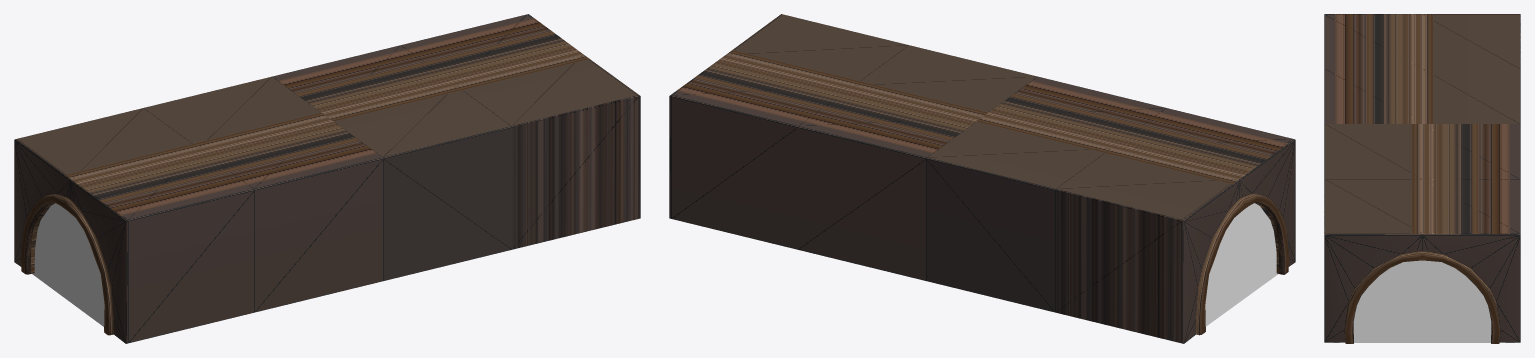
File: ground_un_area12_tunnel.gltf
3 renders of one model, left to right at view 1: azimuth 30°, elevation 25°; view 2: azimuth 150°, elevation 25°; view 3: azimuth 270°, elevation 25°, orthographic. The views are drawn at different scales.
Visible parts, largest first — view 1: tunnel_lod0_shape:ground_un_area12_tunnel_wall02, outside_mesh_shape:fade_outside_mat, tunnel_lod0_shape:ground_un_area12_tunnel_wall01; view 2: tunnel_lod0_shape:ground_un_area12_tunnel_wall02, outside_mesh_shape:fade_outside_mat, tunnel_lod0_shape:ground_un_area12_tunnel_wall01; view 3: tunnel_lod0_shape:ground_un_area12_tunnel_wall02, outside_mesh_shape:fade_outside_mat, tunnel_lod0_shape:ground_un_area12_tunnel_wall01.
Boxes of the visible parts, box(x1,y1,x2,y2) form: tunnel_lod0_shape:ground_un_area12_tunnel_wall02: box(14, 14, 640, 343); outside_mesh_shape:fade_outside_mat: box(32, 203, 104, 326); tunnel_lod0_shape:ground_un_area12_tunnel_wall01: box(24, 202, 55, 274); tunnel_lod0_shape:ground_un_area12_tunnel_wall02: box(669, 14, 1295, 343); outside_mesh_shape:fade_outside_mat: box(1205, 203, 1277, 326); tunnel_lod0_shape:ground_un_area12_tunnel_wall01: box(1255, 202, 1285, 274); tunnel_lod0_shape:ground_un_area12_tunnel_wall02: box(1324, 14, 1520, 343); outside_mesh_shape:fade_outside_mat: box(1334, 260, 1514, 342); tunnel_lod0_shape:ground_un_area12_tunnel_wall01: box(1352, 272, 1492, 343).
Size of what is drawn, in the model's own units: 37.93 by 8.64 by 13.95.
Materials: 4 (2 with a texture image).
